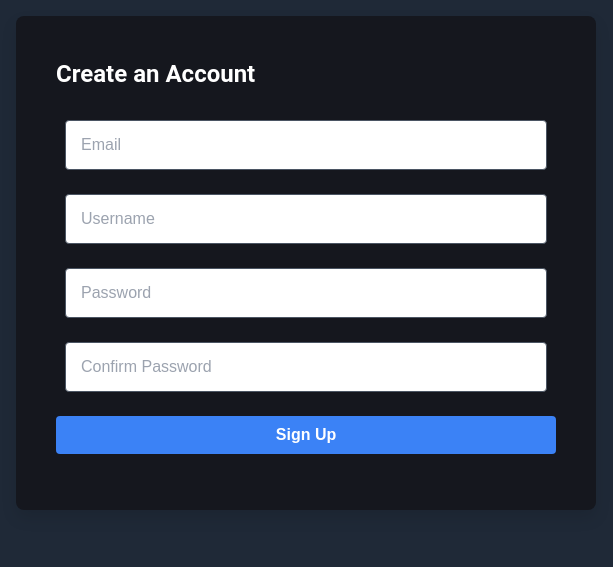
Test case: SignUp Component › shows custom error message signup
This screenshot has width=613, height=567.
Type "jck44@example.com" into the field with placeholder "Email". click: (306, 145)
box: [65,120,547,170]
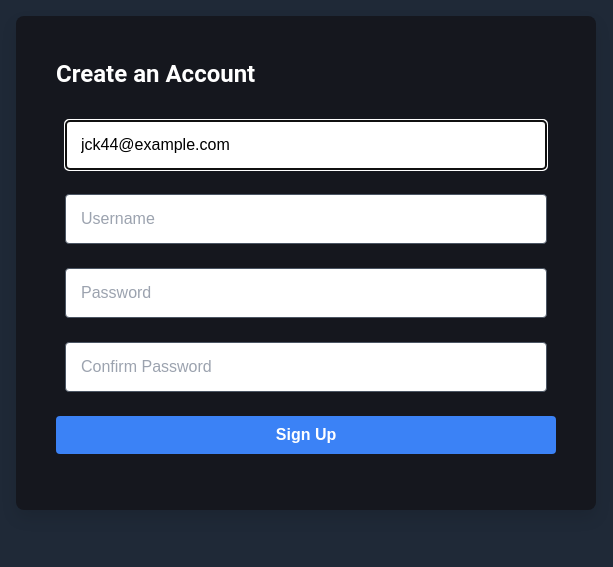
Type "jeremy" into the field with placeholder "Username". click: (306, 219)
box: [65,194,547,244]
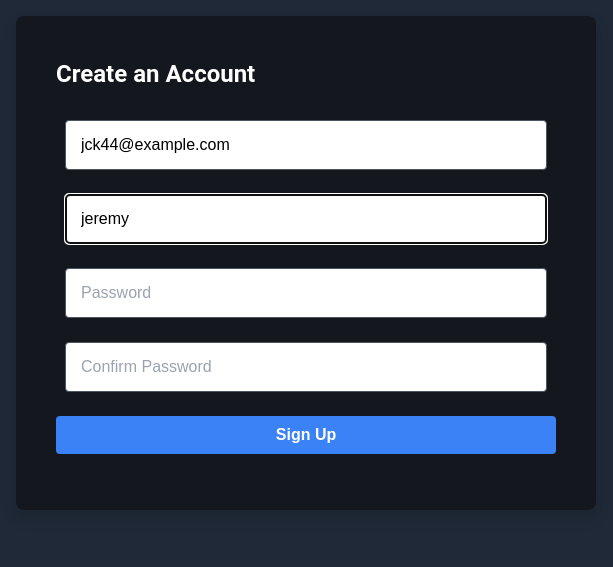
Type "safwanbad" into the password field with placeholder "Password". click: (306, 293)
box: [65,268,547,318]
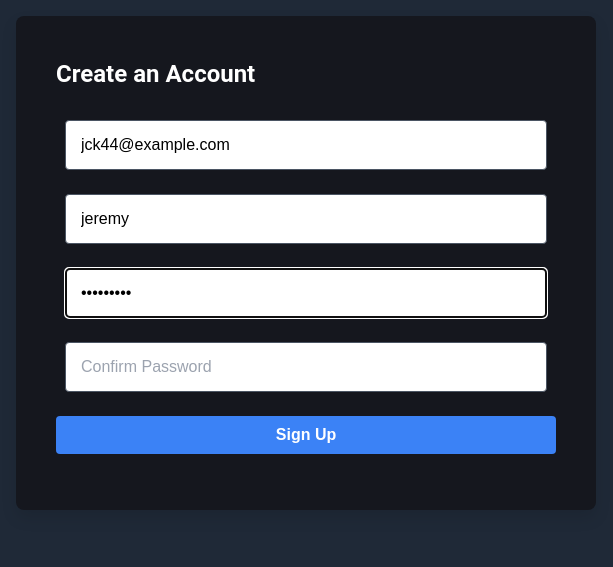
Type "safwanbad" into the password field with placeholder "Confirm Password". click: (306, 367)
box: [65,342,547,392]
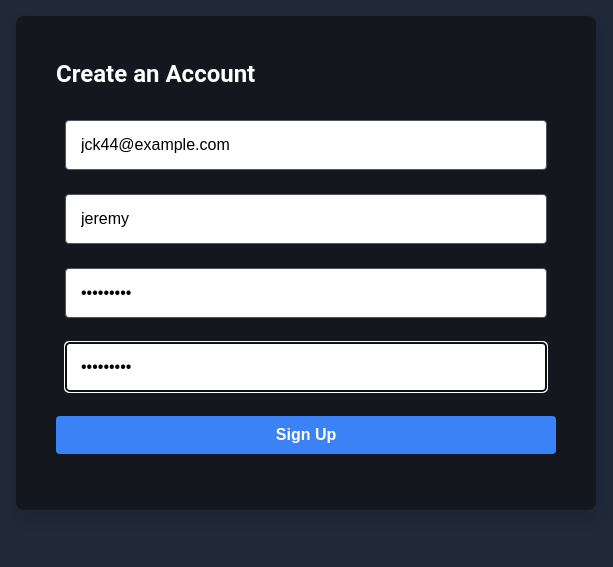
Click the button "Sign Up". click: (306, 435)
box: [56,416,556,454]
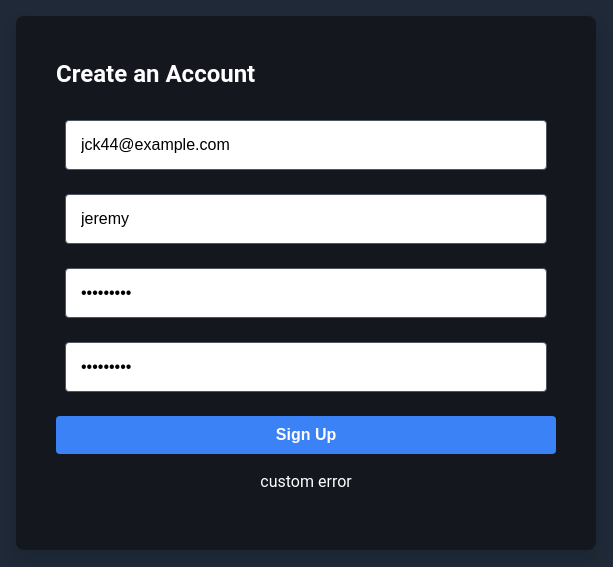
Now the text "custom error" is shown, box [260,472,352,491]
